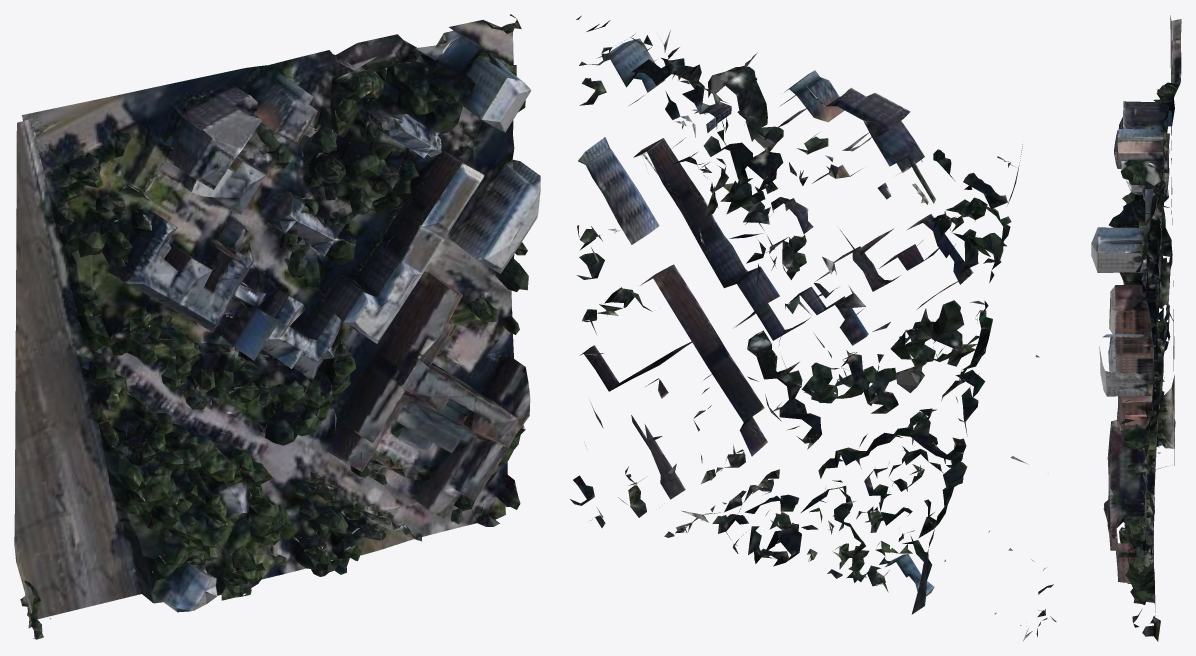
The model's file is Tile_+033_+027_L16_000.glb.
The picture shows the model from 3 angles, left to right: view 1: azimuth 30°, elevation 25°; view 2: azimuth 150°, elevation 25°; view 3: azimuth 270°, elevation 25°; orthographic projection. The views are drawn at different scales.
Bounding box in the file's own units: 250 × 250 × 47.81.
Materials: 1 (1 with a texture image).
